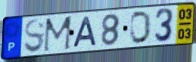3: (154, 7, 176, 44)
8: (100, 13, 121, 47)
A: (72, 15, 98, 49)
M: (42, 14, 75, 54)
O: (129, 10, 152, 46)
S: (23, 17, 46, 54)
